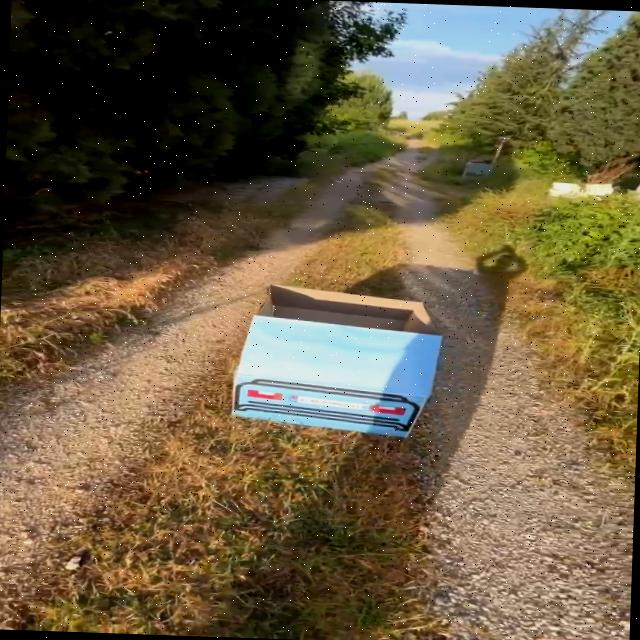blue_car: (186, 242, 495, 472)
